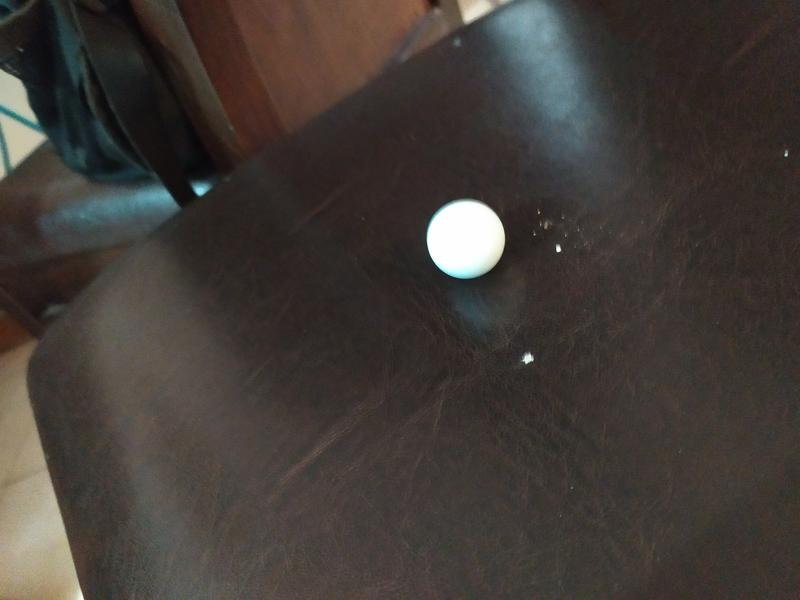Warning: (424, 196, 508, 283)
